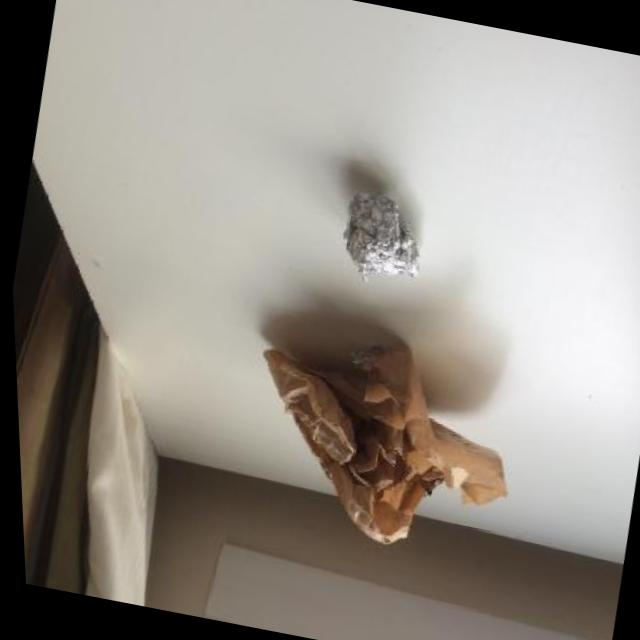metal: (329, 174, 439, 296)
paper: (227, 313, 539, 566)
